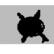not correct: (15, 10, 50, 44)
